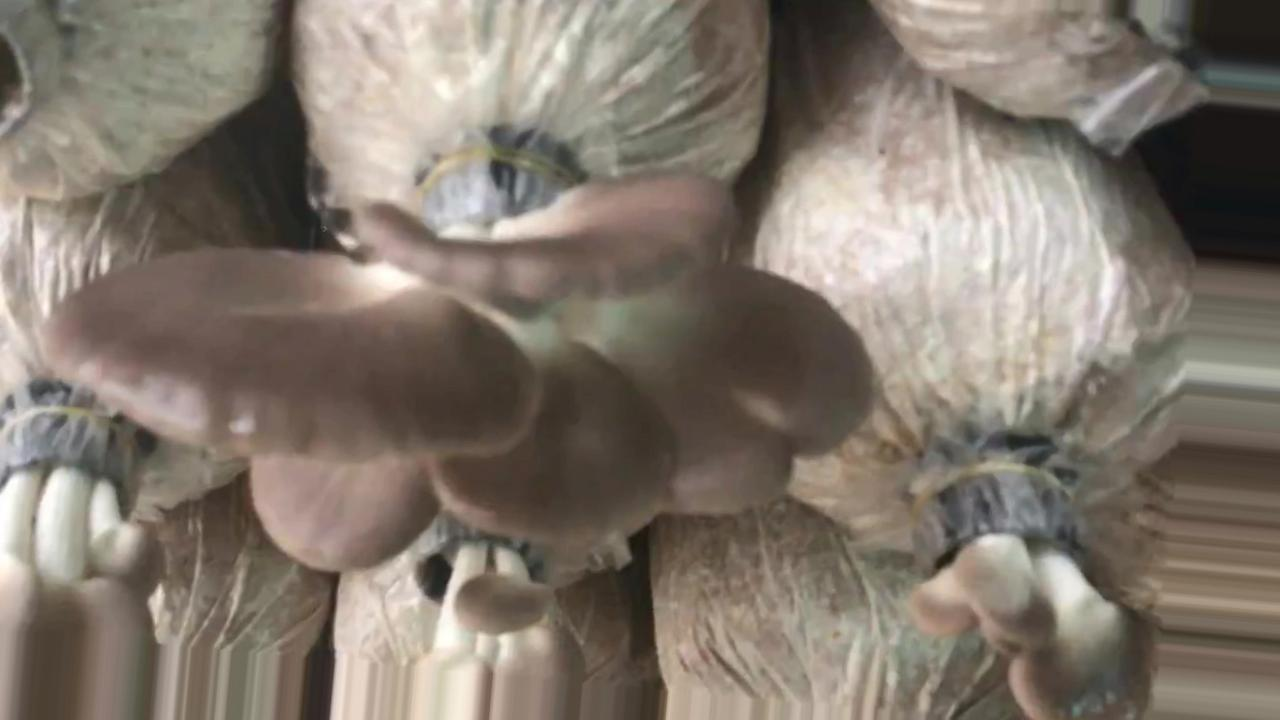nam: (49, 128, 878, 577), (906, 460, 1155, 720), (1, 407, 167, 720), (410, 506, 585, 720)
